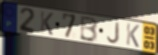2: (19, 7, 37, 33)
7: (61, 12, 77, 40)
B: (79, 15, 99, 43)
J: (106, 21, 122, 45)
K: (125, 22, 141, 49), (39, 10, 55, 37)
